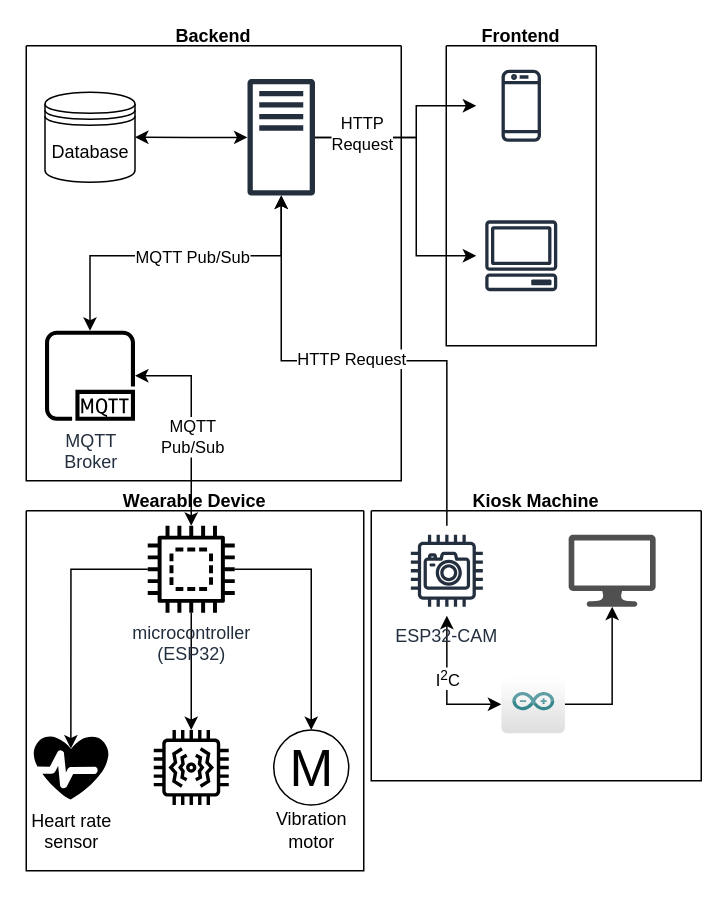
The diagram is 728 pixels wide and 897 high, and some of its shapes have lost their labels. The centre of each missing label's shape, as x and y in pixels:
"Accelerometer" belongs at point 190,766.
"Arduino Uno" belongs at point 532,703.
"Client" belongs at point 520,255.
"LCD Display" belongs at point 611,570.
"Mobile client" belongs at point 520,105.
